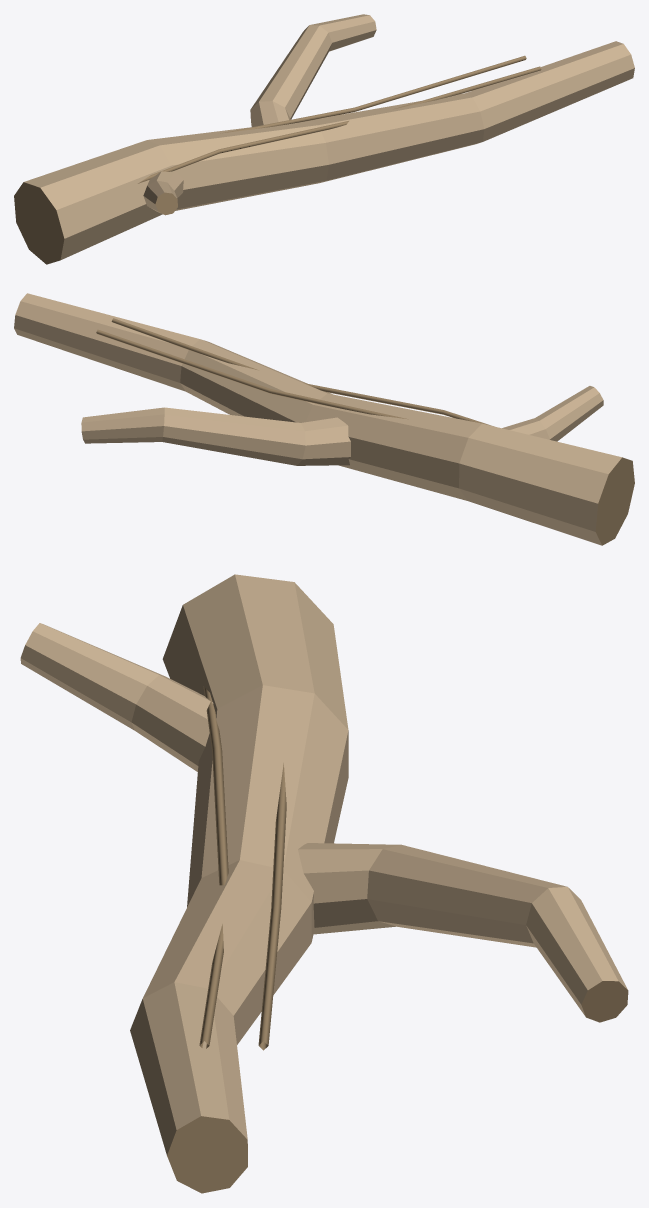
Rendered from driftwood.glb.
3 renders of one model, top to bottom at view 1: azimuth 30°, elevation 25°; view 2: azimuth 150°, elevation 25°; view 3: azimuth 270°, elevation 25°, orthographic. The views are drawn at different scales.
Visible parts, largest first — view 1: driftwood; view 2: driftwood; view 3: driftwood.
Part boxes in pixels (x1,y1,x2,y2): driftwood: (14, 14, 634, 264); driftwood: (14, 293, 634, 545); driftwood: (20, 574, 628, 1193).
Size of the model in its own units: 1.59 by 0.2521 by 0.7203.
